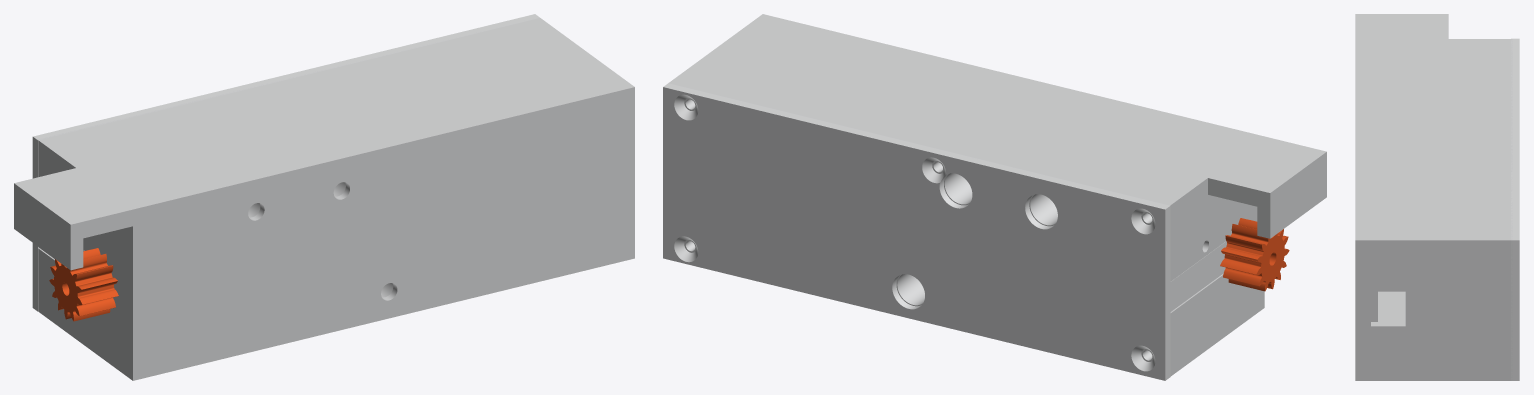
The model's file is v2_closed.glb.
The picture shows the model from 3 angles, left to right: view 1: azimuth 30°, elevation 25°; view 2: azimuth 150°, elevation 25°; view 3: azimuth 270°, elevation 25°; orthographic projection. The views are drawn at different scales.
Parts seen in each view (by area): view 1: tub, lid, pinion; view 2: lid, tub, pinion; view 3: tub, lid.
Part boxes in pixels (box(x1,y1,x2,y2)): tub: box(14, 18, 634, 380); lid: box(32, 14, 539, 311); pinion: box(49, 248, 118, 321); lid: box(663, 83, 1226, 380); tub: box(668, 14, 1326, 376); pinion: box(1220, 218, 1289, 291); tub: box(1355, 14, 1512, 380); lid: box(1511, 38, 1519, 380).
Size of the model in its own units: 0.155 by 0.045 by 0.0475.
